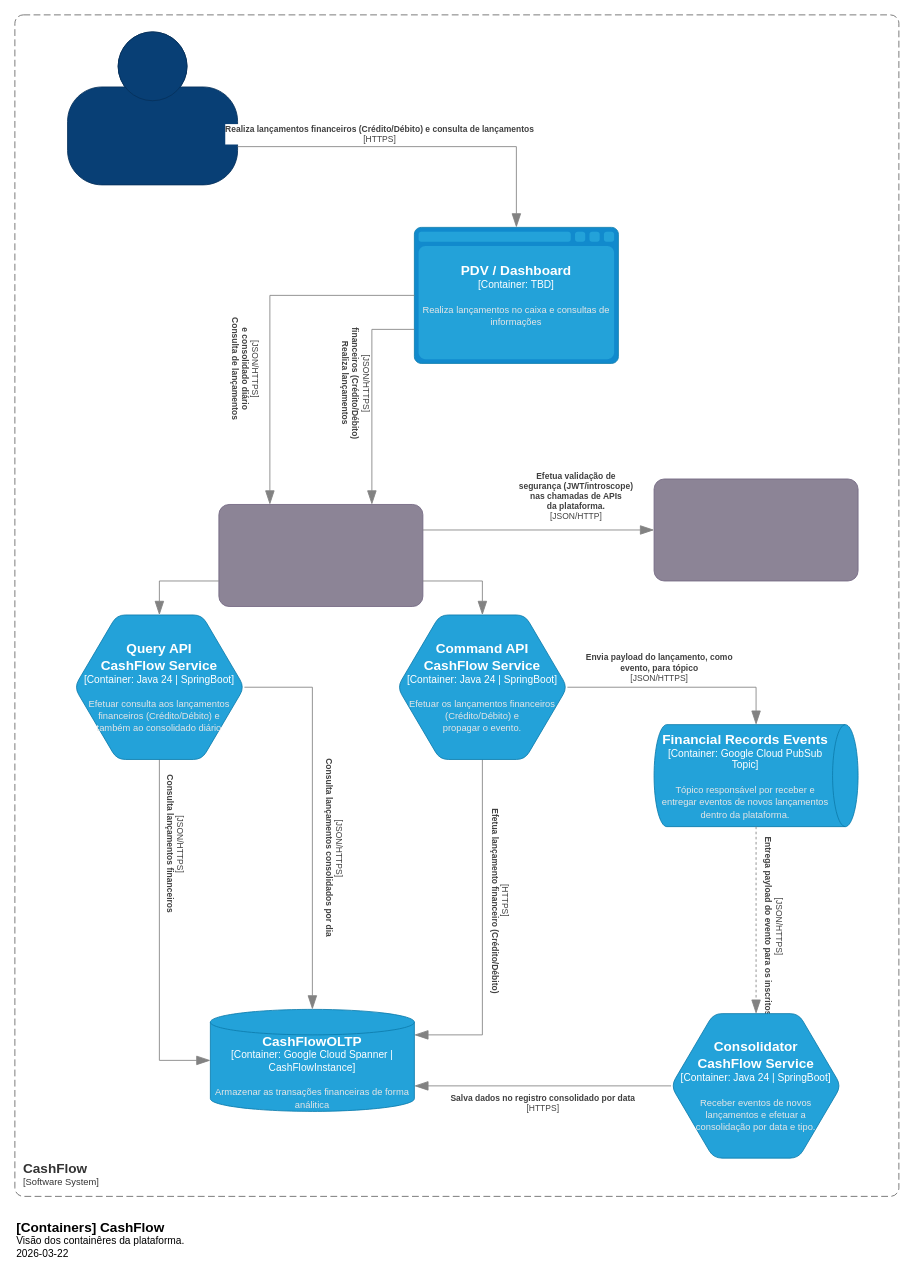
Image size: 914x1279. Some labels were removed from this diagram. Each missing label, with the centre of its shape:
"Comerciante [Person] Pessoa responsável pelos lançamentos e consolidação" belongs at (x=152, y=108).
"KeyCloak [Software System] Provedor de Identificação" belongs at (x=755, y=529).
"Kong [Software System] Gateway de controle de acesso à APIs" belongs at (x=320, y=555).
